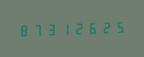eight: (17, 21, 30, 38)
five: (115, 18, 128, 35)
one: (59, 20, 72, 36)
seven: (31, 21, 44, 37)
six: (87, 19, 100, 36)
three: (45, 20, 58, 37)
two: (73, 19, 86, 36), (101, 18, 114, 35)
